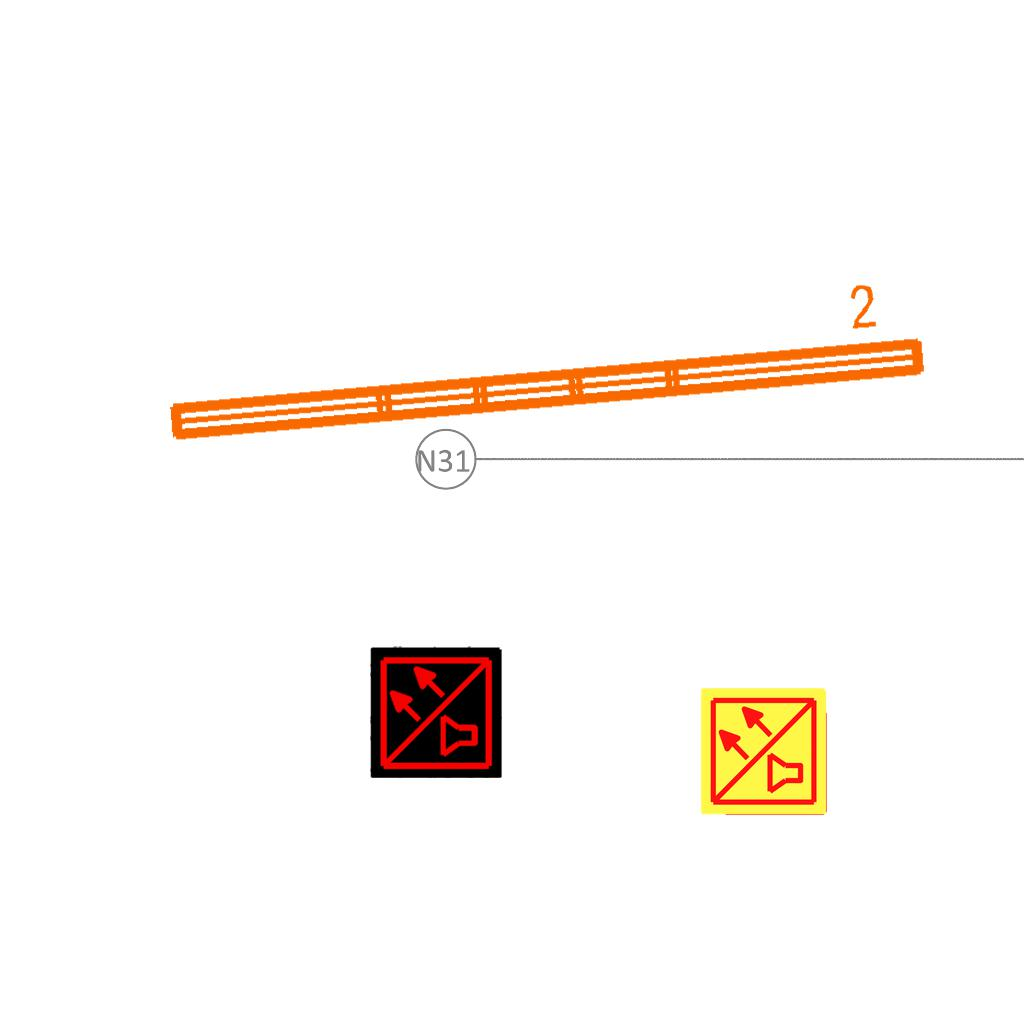Ambulanz_Pendelleuchte_LED: (153, 274, 935, 454)
OKW_Multisensormelder_(Kombination_optischer_Rauch-Kahlenmonoxid_Waerme-Melder): (698, 685, 830, 817), (370, 646, 502, 778)
